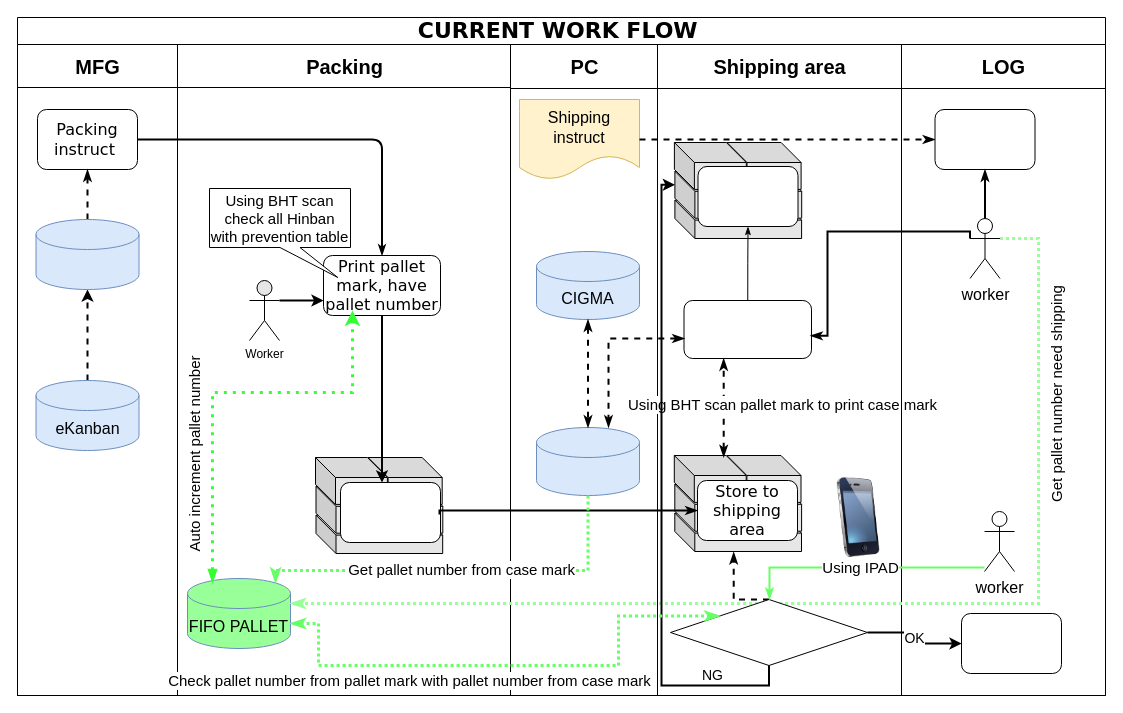
Image size: 1123x713. Some labels were removed from this diagram. Here are the shapes that lost their labels. From the top down, the centre of each, then its label:
point 984,139: Get shipping order
point 747,196: Stick case mark to pallet
point 87,254: Packing addon
point 747,329: Print case mark
point 588,461: NEXUS
point 390,512: Stick pallet mark
point 769,632: Check three point
point 1011,643: Export
